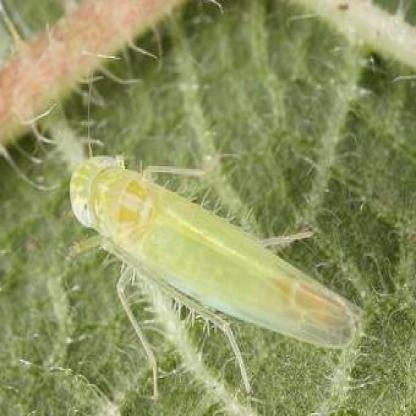Green-Leafhopper: (72, 143, 364, 381)
